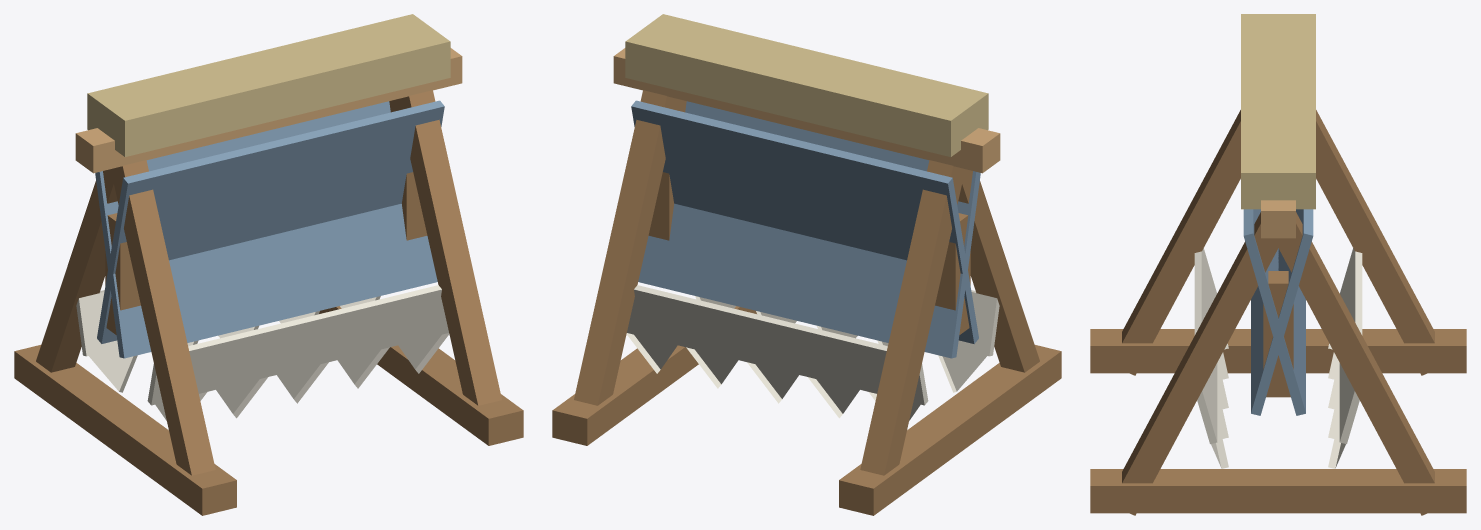
The model's file is barding-stand.glb.
3 renders of one model, left to right at view 1: azimuth 30°, elevation 25°; view 2: azimuth 150°, elevation 25°; view 3: azimuth 270°, elevation 25°, orthographic.
Parts seen in each view (by area): view 1: barding-stand; view 2: barding-stand; view 3: barding-stand.
Boxes of the visible parts, x1,y1,x2,y2 form: barding-stand: (14,14,523,515); barding-stand: (552,14,1061,515); barding-stand: (1090,14,1466,515).
Size of the model in its own units: 1.7 by 1.52 by 1.5.
